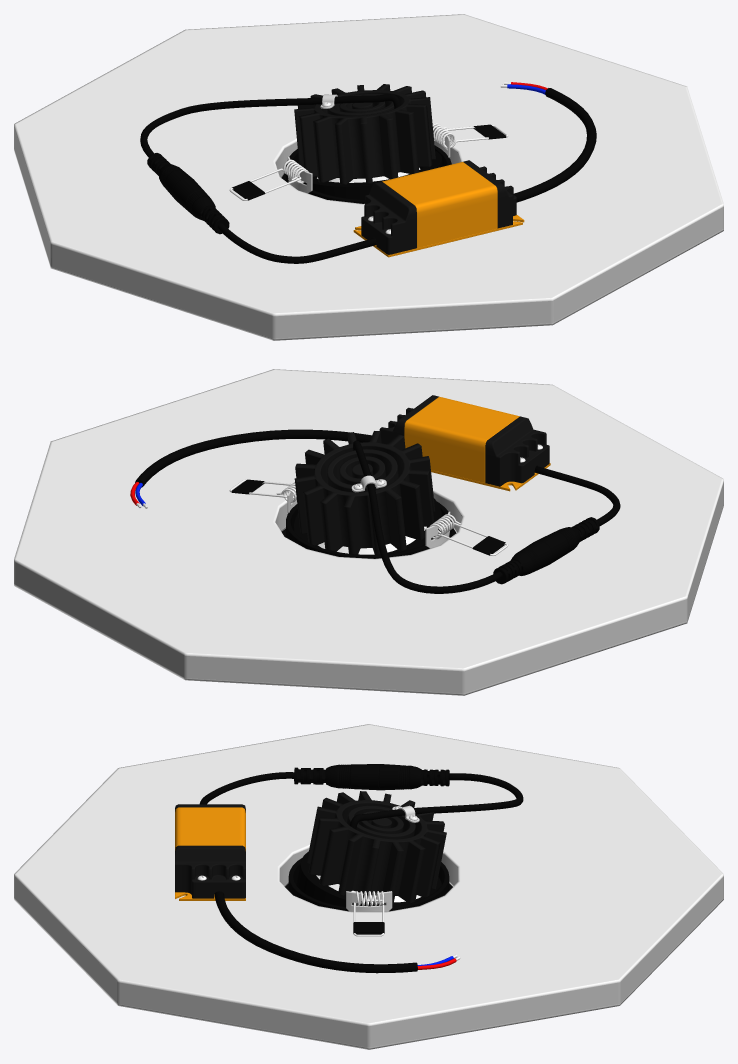
File: 212437_soffi_lightstar_spotlight.glb
3 views of the same model, one above another, from view 1: azimuth 30°, elevation 25°; view 2: azimuth 150°, elevation 25°; view 3: azimuth 270°, elevation 25° (orthographic). The views are drawn at different scales.
Parts seen in each view (by area): view 1: NGon005, Cylinder076, Plane026_Black_paint_0, Plane026_Plastic_Black_Bump_0, Line030, Line032, Cylinder078, Line031, Rectangle026, Cylinder077, Helix058_Metal_Chrom_Satin_dark_0, Helix057_Metal_Chrom_Satin_dark_0 (+1 smaller); view 2: NGon005, Cylinder076, Plane026_Black_paint_0, Plane026_Plastic_Black_Bump_0, Line032, Line030, Cylinder077, Cylinder078, Rectangle023, Line031, Helix058_Metal_Chrom_Satin_dark_0, Rectangle026; view 3: NGon005, Cylinder076, Plane026_Plastic_Black_Bump_0, Plane026_Black_paint_0, Line032, Line030, Cylinder078, Cylinder077, Rectangle026, Rectangle023, Line031, Plane023 (+1 smaller).
Boxes of the visible parts, bbox=[...] form: NGon005: bbox=[14, 14, 723, 340]; Cylinder076: bbox=[294, 84, 435, 184]; Plane026_Black_paint_0: bbox=[353, 162, 524, 257]; Plane026_Plastic_Black_Bump_0: bbox=[361, 160, 516, 254]; Line030: bbox=[140, 94, 400, 157]; Line032: bbox=[513, 88, 596, 202]; Cylinder078: bbox=[172, 177, 229, 234]; Line031: bbox=[217, 223, 376, 263]; Rectangle026: bbox=[298, 150, 442, 199]; Cylinder077: bbox=[147, 153, 193, 198]; Helix058_Metal_Chrom_Satin_dark_0: bbox=[229, 159, 308, 200]; Helix057_Metal_Chrom_Satin_dark_0: bbox=[432, 123, 508, 148]; NGon005: bbox=[14, 369, 723, 695]; Cylinder076: bbox=[294, 431, 435, 554]; Plane026_Black_paint_0: bbox=[404, 396, 550, 491]; Plane026_Plastic_Black_Bump_0: bbox=[379, 395, 549, 486]; Line032: bbox=[135, 429, 371, 487]; Line030: bbox=[353, 440, 502, 593]; Cylinder077: bbox=[493, 540, 552, 584]; Cylinder078: bbox=[535, 517, 599, 564]; Rectangle023: bbox=[281, 501, 456, 558]; Line031: bbox=[534, 466, 620, 525]; Helix058_Metal_Chrom_Satin_dark_0: bbox=[429, 514, 508, 555]; Rectangle026: bbox=[293, 498, 441, 553]; NGon005: bbox=[14, 724, 723, 1049]; Cylinder076: bbox=[306, 791, 446, 905]; Plane026_Plastic_Black_Bump_0: bbox=[175, 804, 245, 898]; Plane026_Black_paint_0: bbox=[175, 807, 245, 900]; Line032: bbox=[214, 891, 417, 973]; Line030: bbox=[350, 773, 523, 829]; Cylinder078: bbox=[294, 764, 379, 790]; Cylinder077: bbox=[378, 764, 449, 790]; Rectangle026: bbox=[296, 851, 441, 906]; Rectangle023: bbox=[285, 858, 452, 911]; Line031: bbox=[199, 772, 293, 804]; Plane023: bbox=[346, 891, 392, 911].
Size of the model in its own units: 300 by 52.48 by 300.
